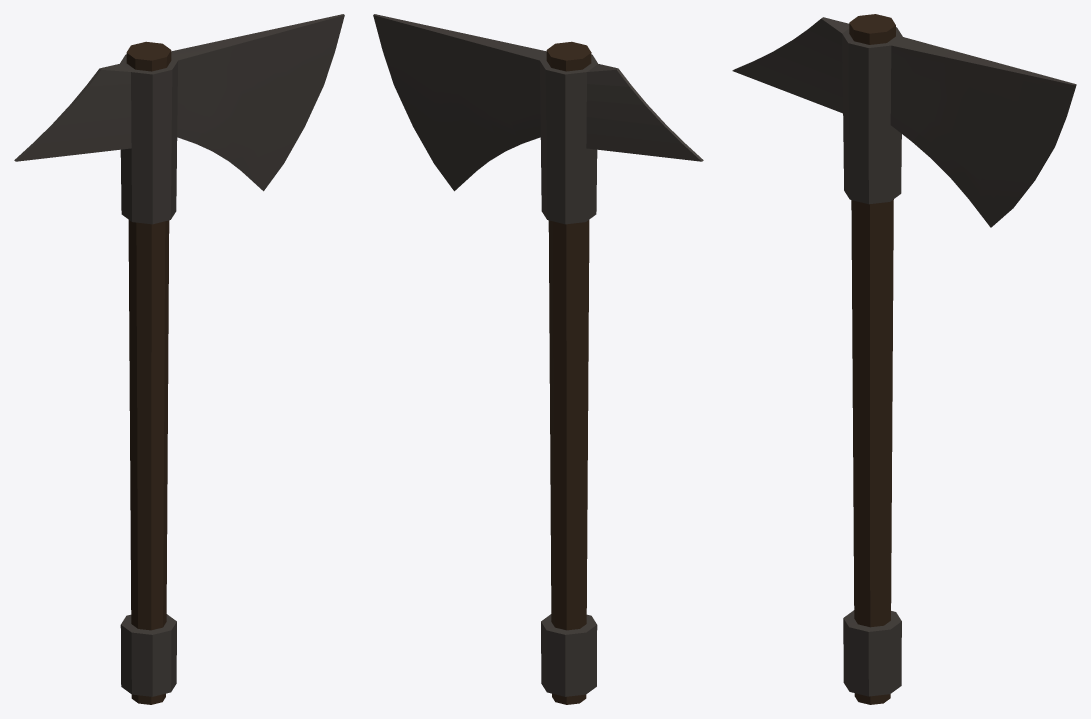
The model's file is shop-item-1004.glb.
3 views of the same model, side by side, from view 1: azimuth 30°, elevation 25°; view 2: azimuth 150°, elevation 25°; view 3: azimuth 330°, elevation 25° (orthographic). The views are drawn at different scales.
Visible parts, largest first — view 1: one_handed_axe_2; view 2: one_handed_axe_2; view 3: one_handed_axe_2.
Boxes of the visible parts, <box> form: one_handed_axe_2: <box>14,14,344,704</box>; one_handed_axe_2: <box>373,14,703,704</box>; one_handed_axe_2: <box>732,14,1076,704</box>.
Bounding box in the file's own units: 0.5214 × 0.9786 × 0.0748.
Materials: 1 (1 with a texture image).
